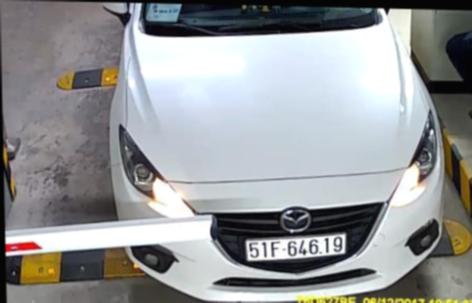License_Plate: (241, 229, 349, 264)
